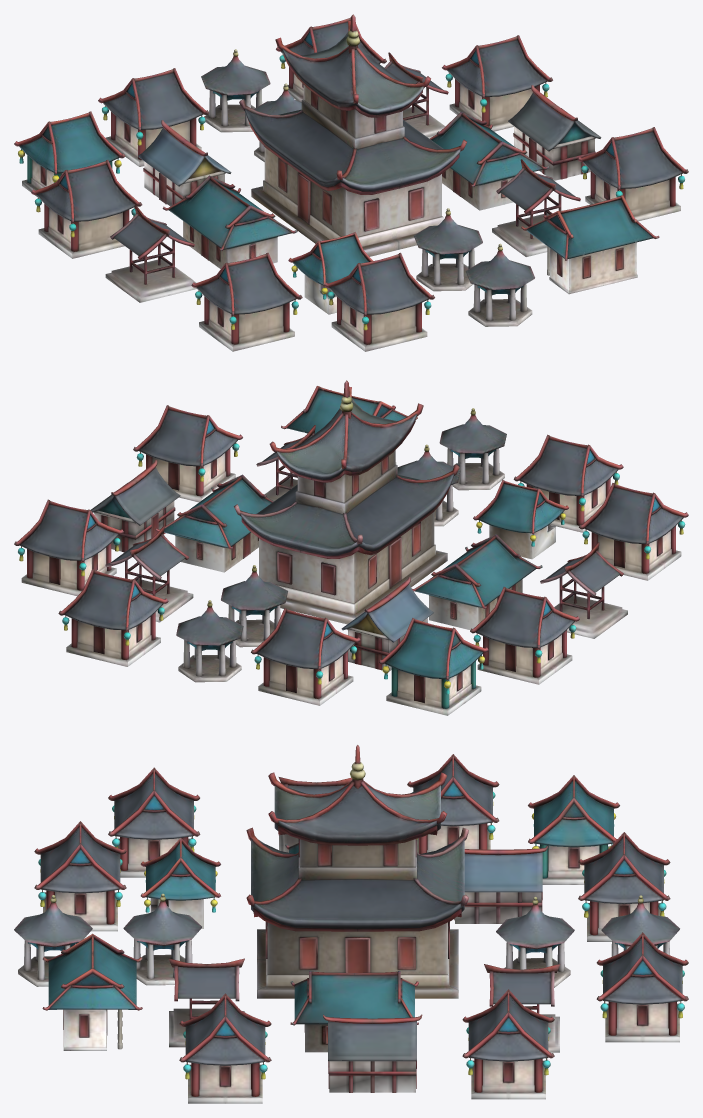
The model's file is city_chinese_2.glb.
3 renders of one model, top to bottom at view 1: azimuth 30°, elevation 25°; view 2: azimuth 150°, elevation 25°; view 3: azimuth 270°, elevation 25°, orthographic. The views are drawn at different scales.
Visible parts, largest first — view 1: low.051, low.090, low.066, low.086, low.085, low.053, low.083, low.092, low.094, low.089, low.078, low.076 (+10 smaller); view 2: low.051, low.076, low.082, low.094, low.085, low.092, low.066, low.083, low.053, low.089, low.086, low.077 (+10 smaller); view 3: low.051, low.090, low.092, low.083, low.082, low.078, low.086, low.076, low.089, low.066, low.094, low.079 (+9 smaller).
Part boxes in pixels (x1,y1,x2,y2): low.051: (239,14,466,256); low.090: (521,195,659,294); low.066: (191,252,302,351); low.086: (324,252,434,351); low.085: (31,160,142,258); low.053: (162,175,297,268); low.083: (577,127,688,221); low.092: (442,35,552,131); low.094: (98,68,208,166); low.089: (429,111,549,210); low.078: (508,85,601,180); low.076: (14,111,125,197); low.051: (234,380,459,624); low.076: (378,618,488,715); low.082: (58,569,168,666); low.094: (251,608,360,705); low.085: (470,587,579,684); low.092: (14,499,123,596); low.066: (579,483,688,580); low.083: (133,405,242,502); low.053: (412,534,542,630); low.089: (155,474,273,572); low.086: (513,434,623,532); low.077: (473,479,568,559); low.051: (246,745,468,998); low.090: (42,933,142,1050); low.092: (462,989,554,1099); low.083: (179,993,271,1103); low.082: (596,932,688,1042); low.078: (323,1014,422,1092); low.086: (34,821,126,931); low.076: (528,775,619,884); low.089: (290,971,418,1052); low.066: (108,767,200,877); low.094: (578,832,670,941); low.079: (454,846,547,923).
Bounding box in the file's own units: 31.71 × 12.03 × 32.57.
Materials: 3 (3 with a texture image).
